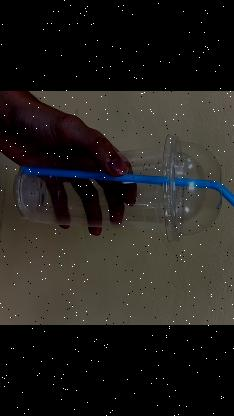Others: (15, 136, 234, 247)
